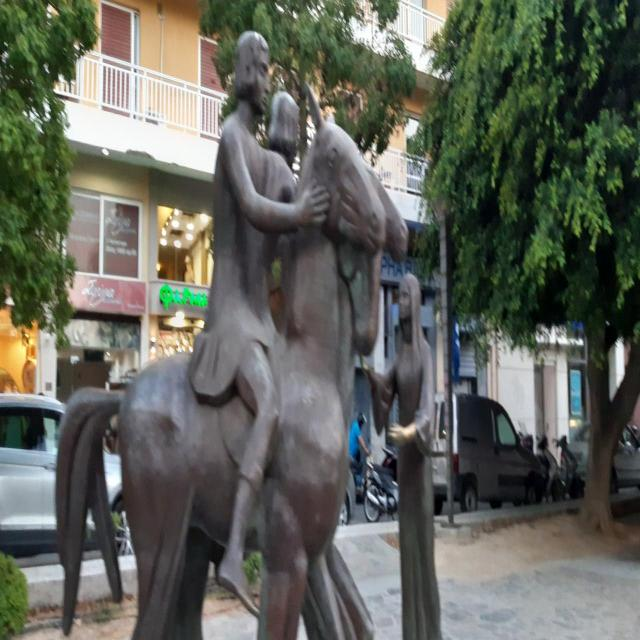Aretousa: (56, 33, 444, 640)
